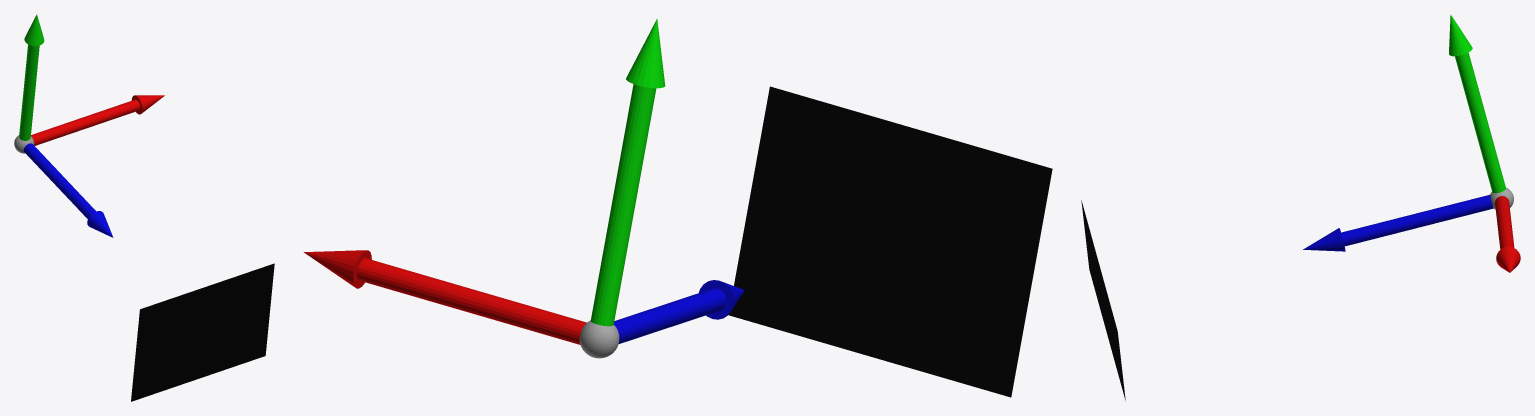
3 renders of one model, left to right at view 1: azimuth 30°, elevation 25°; view 2: azimuth 150°, elevation 25°; view 3: azimuth 270°, elevation 25°, orthographic. The views are drawn at different scales.
Bounding box in the file's own units: 0.1724 × 0.2295 × 0.2671.
